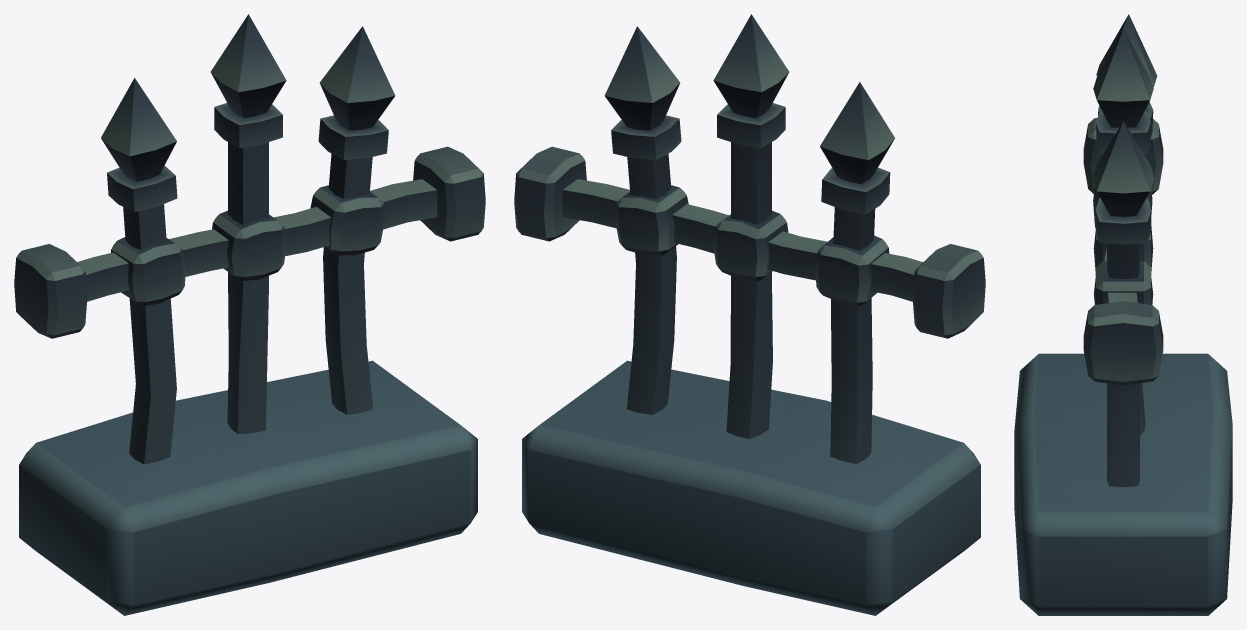
The model's file is fence_element_2_LOD_setup.fbx.
3 views of the same model, side by side, from view 1: azimuth 30°, elevation 25°; view 2: azimuth 150°, elevation 25°; view 3: azimuth 270°, elevation 25° (orthographic). The views are drawn at different scales.
Parts seen in each view (by area): view 1: fence_element_2_LOD0; view 2: fence_element_2_LOD0; view 3: fence_element_2_LOD0.
Part boxes in pixels (bbox=[...]): fence_element_2_LOD0: bbox=[14, 14, 485, 615]; fence_element_2_LOD0: bbox=[514, 14, 985, 615]; fence_element_2_LOD0: bbox=[1014, 14, 1232, 615].
Size of what is drawn, in the model's own units: 155 by 179 by 69.82.
